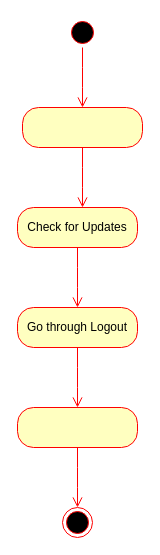
This 160x555 diagram has some shape labels left out. Here are the shapes that lost their labels. From the top down, the centre of each, then its label:
At [82,127]: "Go to Dashboard".
At [77,427]: "Back to Login Page".
